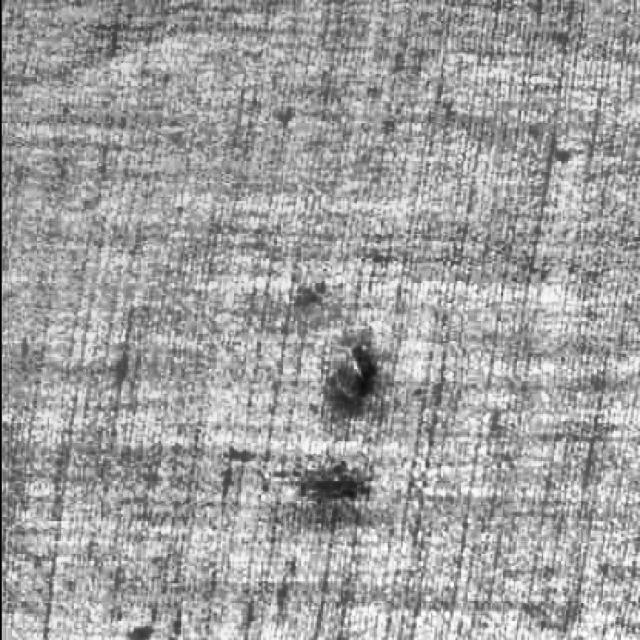oil_spot: (239, 320, 398, 522)
